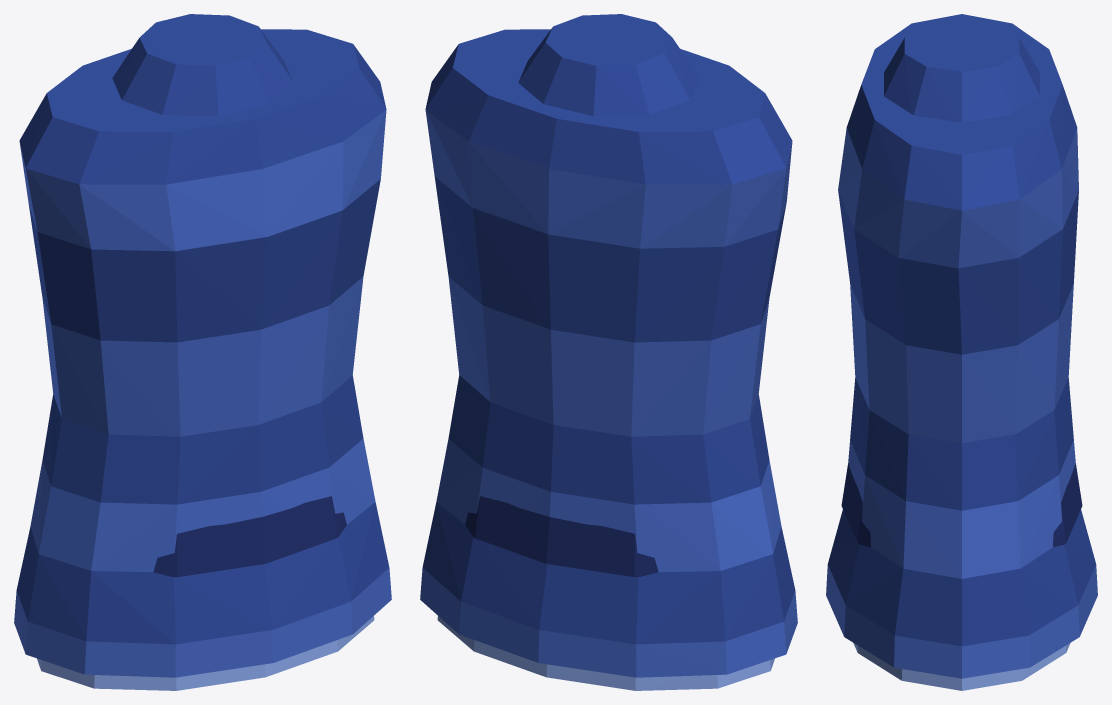
File: gear_mithril_chainbody_torso_m.glb
3 renders of one model, left to right at view 1: azimuth 30°, elevation 25°; view 2: azimuth 150°, elevation 25°; view 3: azimuth 270°, elevation 25°, orthographic. The views are drawn at different scales.
Parts seen in each view (by area): view 1: gear_mithril_chainbody_torso_m; view 2: gear_mithril_chainbody_torso_m; view 3: gear_mithril_chainbody_torso_m.
Boxes of the visible parts, left/top/right/bottom form: gear_mithril_chainbody_torso_m: left=14, top=14, right=391, bottom=690; gear_mithril_chainbody_torso_m: left=420, top=14, right=797, bottom=690; gear_mithril_chainbody_torso_m: left=826, top=14, right=1097, bottom=690.
Size of the model in its own units: 0.458 by 0.73 by 0.316.
